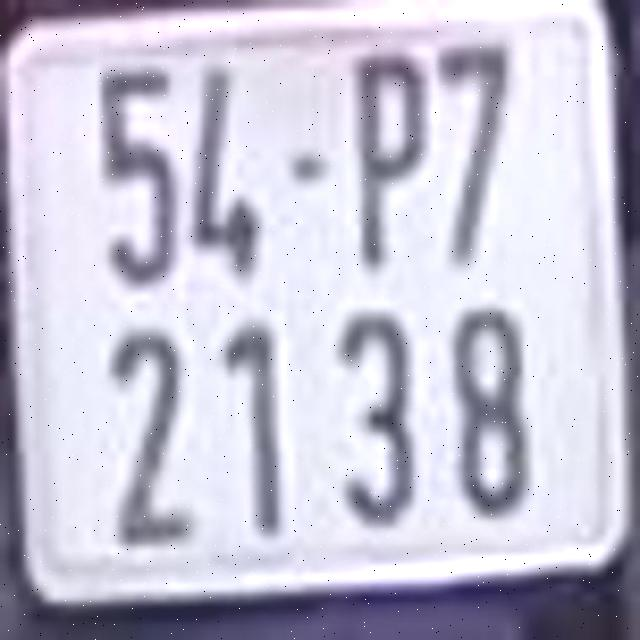1: (219, 318, 301, 538)
2: (106, 322, 198, 546)
3: (333, 303, 419, 530)
4: (187, 60, 266, 283)
5: (95, 64, 180, 287)
7: (436, 37, 511, 269)
8: (451, 301, 533, 518)
P: (349, 48, 430, 270)
